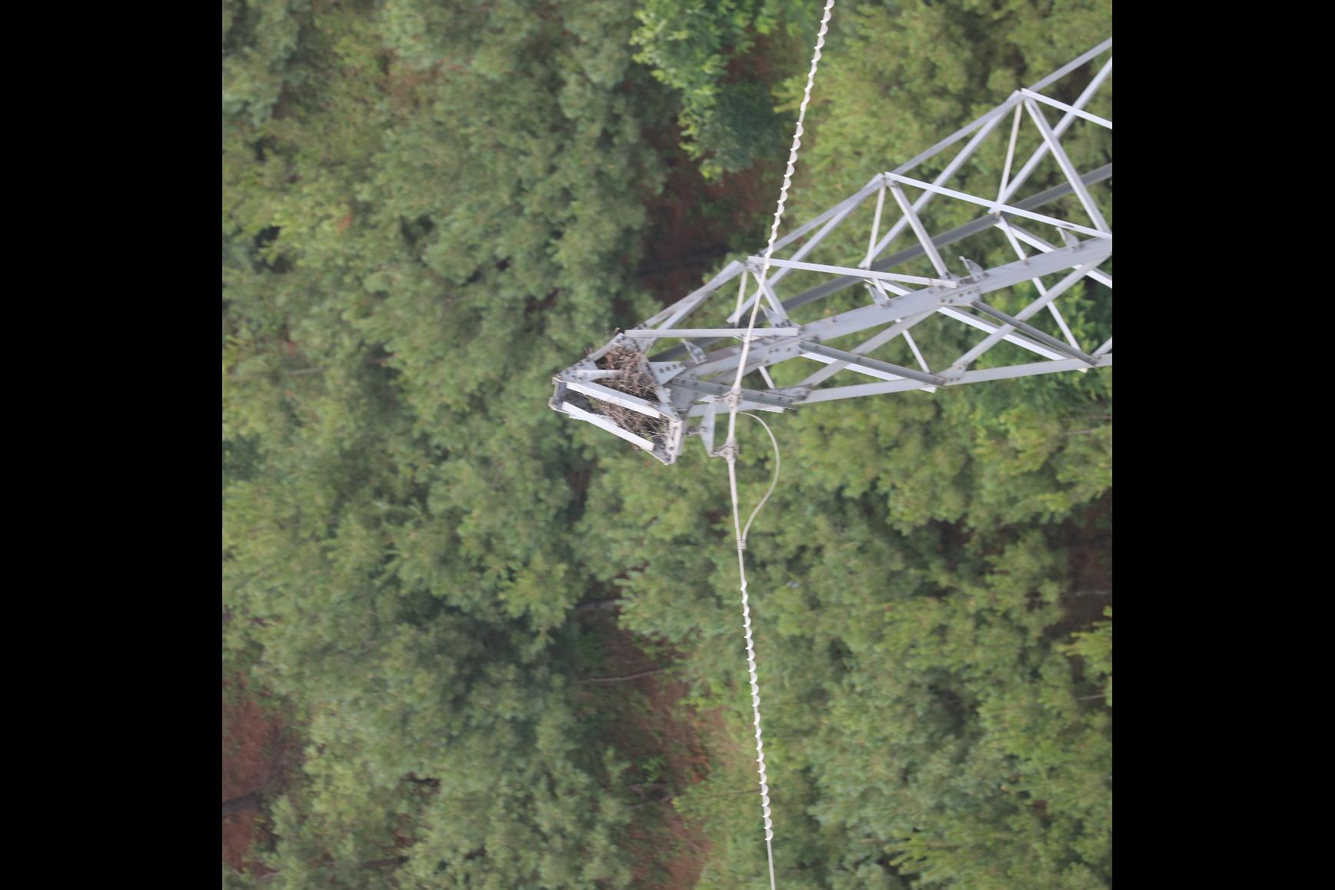nest: (593, 343, 664, 440)
